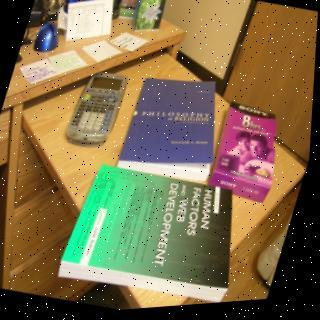book: (47, 151, 268, 316), (113, 62, 240, 193)
